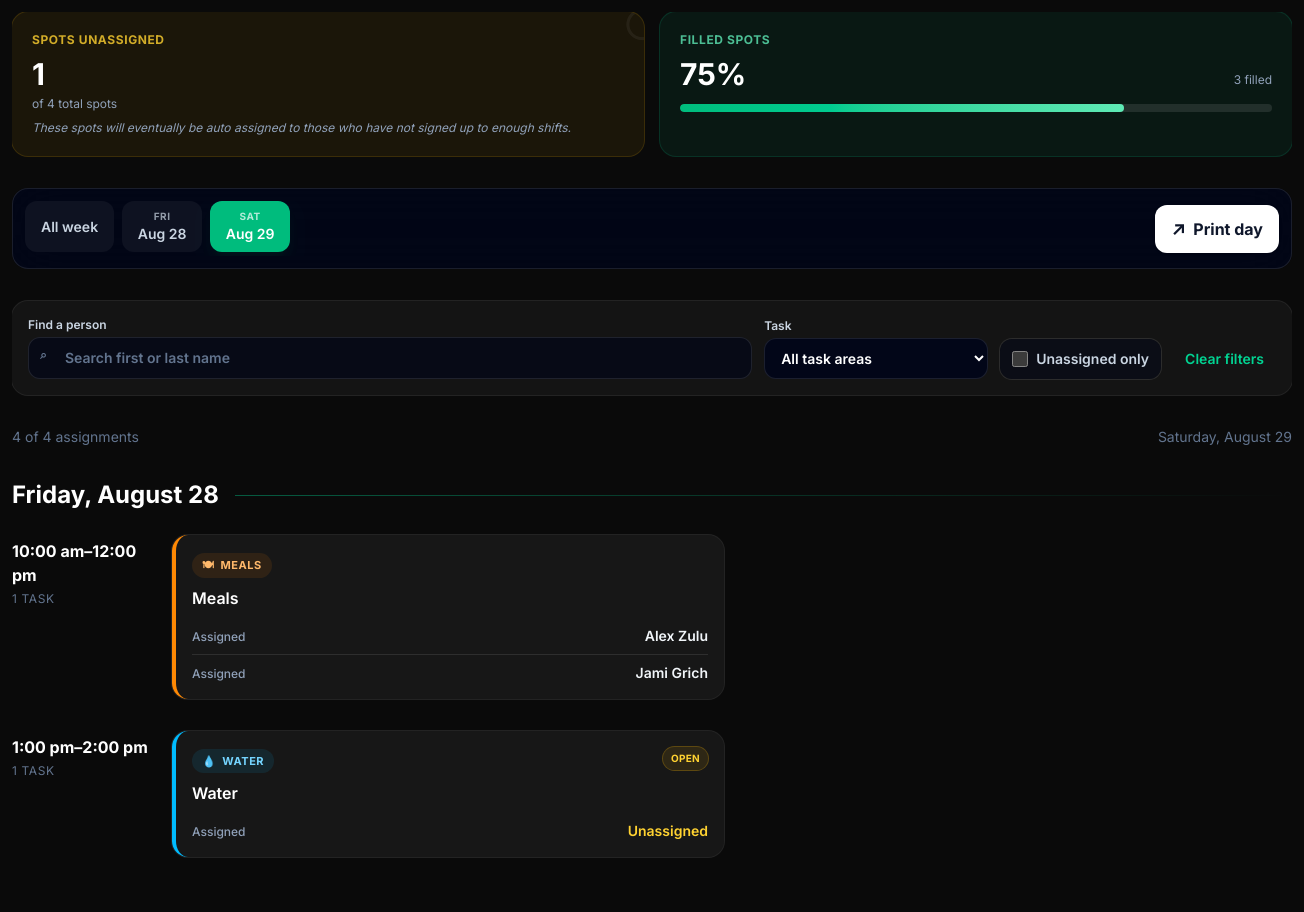
Test: ShiftsTable › falls back to filtered-week printing when filters remove the active day
The image size is (1304, 912).
Select "Meals" in the dropdown named "Filter by task" at [876, 358], box x1=764 y1=338 x2=988 y2=379
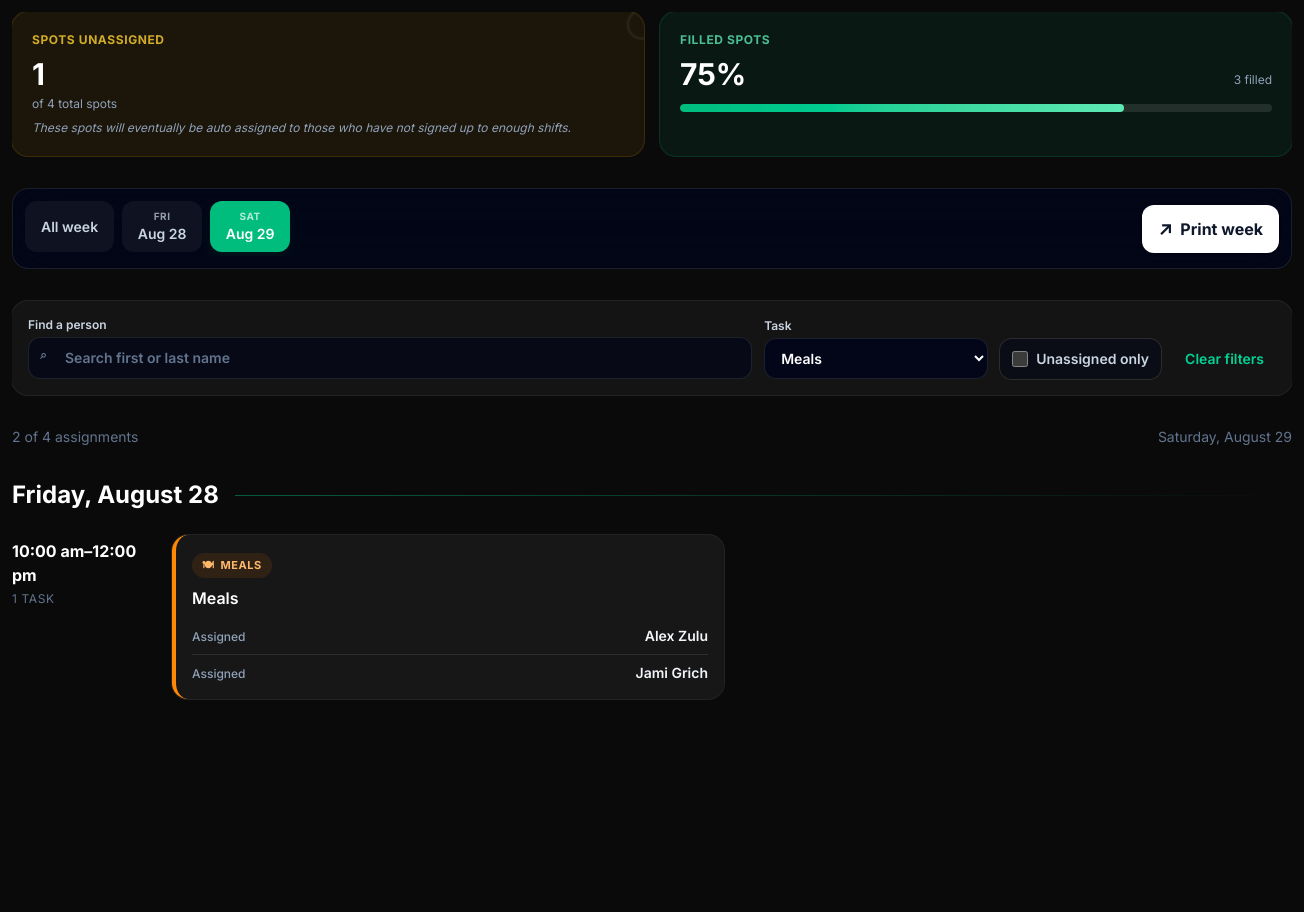
expect the button with aria-label "Print filtered week" is shown: met, box x1=1142 y1=204 x2=1279 y2=252
